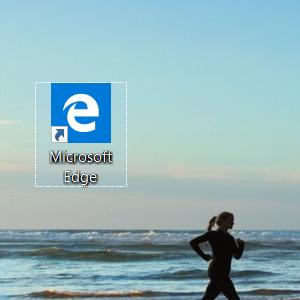edge: (51, 83, 111, 143)
